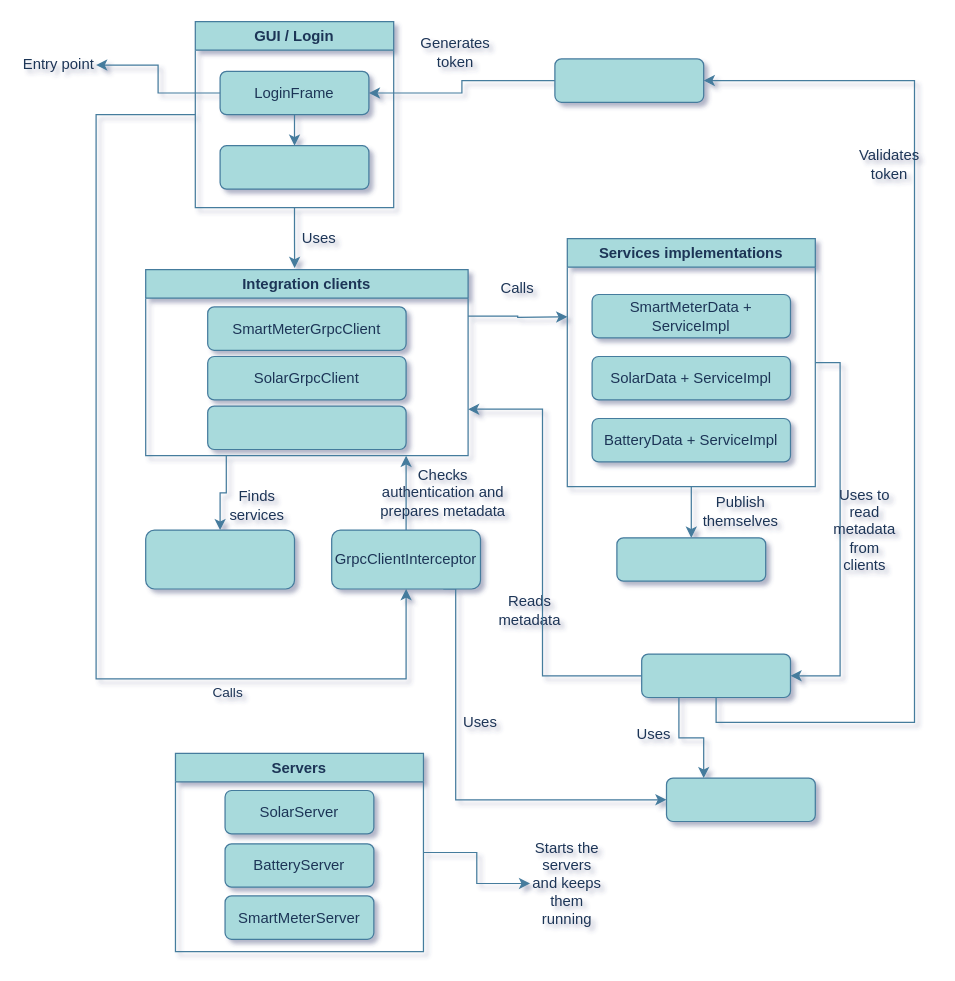
The diagram is 955 pixels wide and 981 high, and some of its shapes have lost their labels. Here are the shapes that lost their labels. From the top down, the centre of each, then its label:
the point at 629,80: JwtUtil
the point at 294,166: SmartHomeGUI
the point at 306,427: BatteryGrpcClient
the point at 219,559: JmDNSDiscovery
the point at 691,559: JmDNSRegistration
the point at 715,675: AuthInterceptor
the point at 740,799: GrpcConstants
